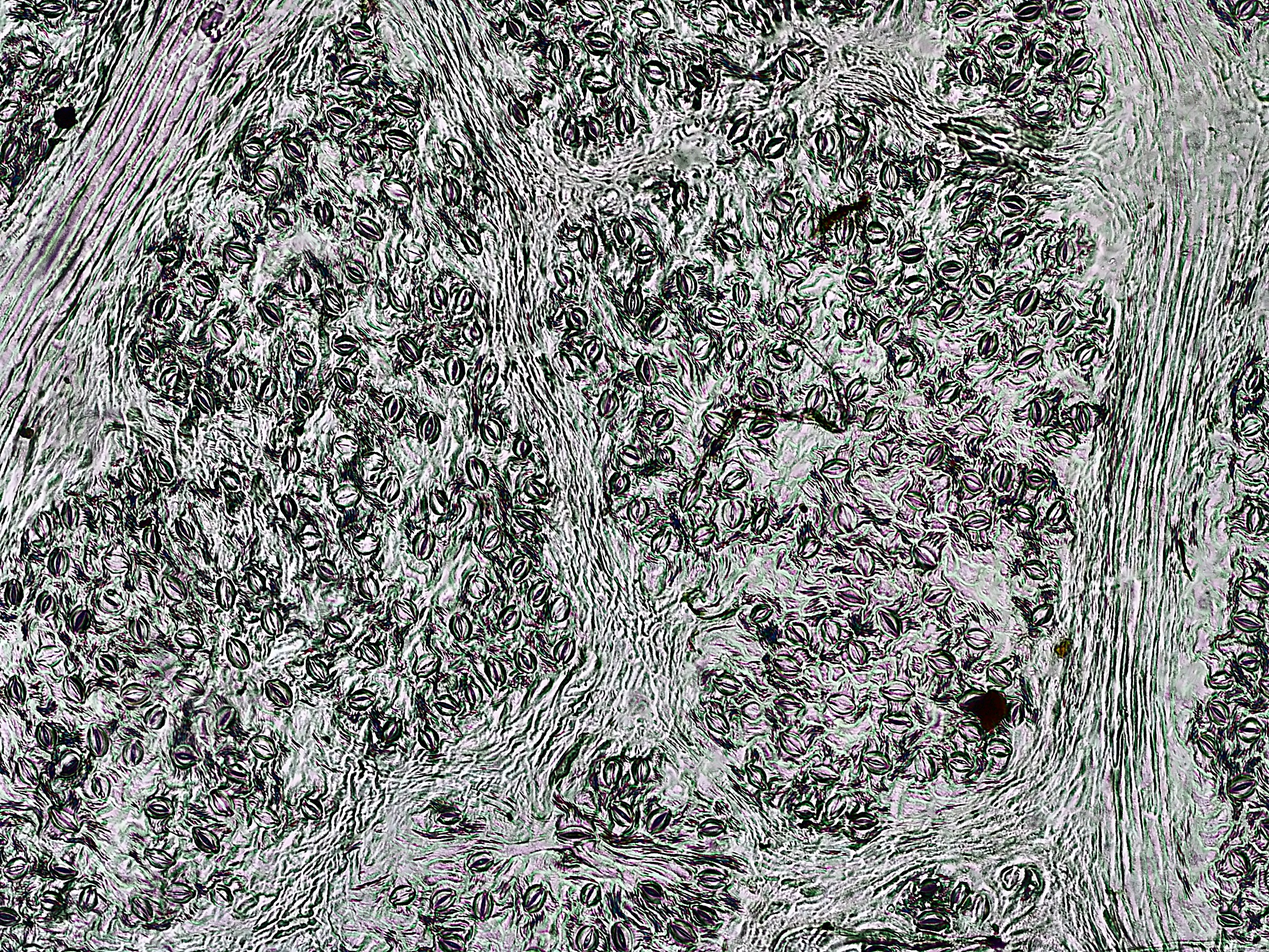stomata: (694, 408, 742, 446), (215, 629, 253, 668), (715, 109, 751, 147), (732, 370, 773, 403), (829, 211, 859, 255), (552, 821, 598, 849), (680, 520, 727, 547), (440, 133, 474, 169), (1235, 501, 1269, 537), (948, 180, 981, 217), (457, 850, 503, 876), (434, 172, 467, 207), (778, 726, 813, 759), (264, 677, 299, 710), (252, 297, 288, 329), (779, 48, 811, 84), (860, 751, 904, 777), (775, 252, 814, 281), (583, 24, 617, 57), (464, 457, 497, 491), (326, 56, 366, 84), (1069, 399, 1101, 434), (383, 124, 420, 154), (984, 454, 1014, 491), (629, 5, 668, 33), (1232, 408, 1266, 440), (545, 37, 576, 72), (226, 239, 266, 266), (432, 928, 477, 952), (997, 66, 1034, 94), (521, 477, 559, 504), (324, 100, 356, 132), (280, 133, 313, 164), (841, 635, 872, 668), (394, 328, 424, 362), (841, 106, 871, 140), (606, 798, 635, 833), (951, 56, 983, 87), (744, 761, 776, 792), (976, 327, 1005, 361), (686, 331, 715, 365), (750, 504, 779, 538), (415, 407, 443, 442), (770, 648, 805, 676), (943, 3, 980, 29), (47, 854, 84, 880), (345, 14, 376, 45), (577, 222, 601, 262), (676, 476, 708, 506), (816, 615, 846, 647), (311, 551, 340, 584), (583, 114, 611, 148), (189, 830, 227, 855), (987, 31, 1023, 57), (388, 89, 419, 119), (773, 303, 804, 333), (520, 882, 551, 912), (545, 633, 575, 664), (355, 213, 384, 245), (32, 889, 69, 914), (834, 163, 867, 191), (865, 432, 893, 465), (960, 415, 998, 439), (928, 378, 964, 403), (187, 270, 218, 299), (671, 262, 698, 295), (260, 602, 287, 635), (826, 686, 860, 712), (347, 686, 381, 712), (912, 908, 947, 933), (3, 850, 32, 880), (190, 385, 218, 416), (499, 12, 530, 40), (821, 448, 849, 479), (637, 875, 668, 903), (42, 545, 69, 577), (749, 416, 782, 442), (511, 506, 544, 532), (762, 346, 796, 371), (715, 497, 749, 522), (877, 607, 902, 641), (386, 174, 414, 204), (476, 355, 500, 390), (342, 260, 373, 287), (832, 587, 870, 609), (881, 680, 919, 702), (143, 241, 179, 264), (1229, 610, 1265, 633), (386, 275, 411, 308), (615, 105, 640, 138), (131, 844, 170, 865), (961, 625, 995, 649), (1224, 772, 1258, 796), (87, 765, 111, 799), (32, 0, 69, 22), (766, 132, 793, 162), (715, 672, 745, 699), (586, 68, 617, 94), (477, 413, 503, 444), (650, 305, 673, 340), (374, 716, 406, 741), (14, 756, 39, 788), (998, 228, 1031, 252), (613, 445, 649, 467), (688, 904, 721, 928), (643, 59, 671, 87), (255, 162, 282, 191), (318, 285, 345, 314), (1068, 48, 1097, 75), (505, 556, 532, 585), (379, 392, 405, 422), (1234, 0, 1264, 26), (638, 353, 663, 384), (1229, 842, 1251, 877), (937, 257, 969, 281), (610, 918, 634, 950), (4, 573, 24, 611), (722, 220, 745, 253), (803, 381, 826, 414), (289, 392, 316, 420), (694, 820, 730, 841), (130, 896, 158, 923), (288, 269, 314, 298), (757, 213, 783, 242), (1014, 286, 1040, 315), (1026, 397, 1052, 426), (783, 617, 812, 643), (928, 650, 957, 676), (1237, 716, 1266, 742), (53, 805, 79, 834), (329, 331, 359, 356), (1071, 77, 1101, 102), (353, 526, 378, 556), (1206, 700, 1231, 730), (1028, 101, 1062, 123), (99, 553, 133, 575), (1216, 907, 1247, 931), (923, 584, 955, 607), (523, 577, 550, 604), (689, 61, 715, 89), (378, 474, 404, 502), (427, 488, 453, 516), (32, 646, 65, 668), (144, 795, 177, 817), (941, 298, 970, 323), (97, 500, 126, 525), (703, 865, 732, 890), (212, 786, 237, 815), (551, 261, 575, 291), (387, 882, 417, 906), (330, 486, 364, 507), (1052, 305, 1075, 336), (563, 306, 594, 329), (175, 514, 198, 545), (174, 672, 205, 695), (1014, 0, 1046, 22), (1076, 338, 1102, 365), (1015, 341, 1042, 367), (721, 332, 747, 359), (841, 371, 867, 398), (579, 879, 605, 906), (749, 6, 774, 34), (413, 528, 438, 556), (250, 731, 278, 756), (435, 884, 459, 913), (465, 572, 489, 601), (460, 681, 489, 705), (1057, 238, 1080, 268), (702, 304, 732, 327), (950, 715, 980, 738), (813, 124, 835, 155), (216, 472, 247, 494), (327, 612, 352, 639), (878, 160, 899, 192), (623, 498, 651, 522), (914, 747, 935, 779), (1241, 574, 1269, 598), (363, 641, 387, 669), (414, 652, 442, 676), (849, 264, 872, 293), (673, 174, 692, 209), (896, 238, 926, 260), (720, 467, 750, 489), (879, 707, 909, 729), (146, 699, 168, 729), (154, 290, 175, 321), (1050, 501, 1071, 532), (1001, 191, 1027, 216), (648, 526, 674, 551), (706, 709, 731, 735), (355, 571, 381, 596), (301, 796, 326, 822), (554, 121, 578, 148), (68, 607, 95, 631), (1198, 727, 1222, 754), (703, 1, 726, 29), (396, 596, 419, 624), (776, 191, 808, 211), (20, 41, 49, 63), (456, 283, 478, 312), (364, 448, 393, 470), (999, 857, 1021, 886), (824, 790, 846, 819), (954, 223, 984, 244), (945, 755, 980, 773), (780, 694, 810, 715), (2, 129, 21, 162), (429, 282, 448, 315), (292, 340, 316, 366), (1024, 556, 1050, 580), (254, 806, 280, 830), (459, 230, 482, 257), (252, 378, 275, 405), (799, 534, 822, 561), (672, 920, 699, 943), (508, 96, 528, 127), (899, 275, 927, 297), (855, 549, 877, 577), (131, 618, 153, 646), (477, 891, 499, 919), (440, 688, 462, 716), (307, 653, 329, 681), (849, 810, 883, 828), (315, 198, 336, 227), (907, 487, 928, 516), (908, 546, 940, 565), (838, 500, 857, 532), (439, 351, 459, 381), (1090, 296, 1115, 320), (615, 215, 635, 245), (956, 470, 981, 494), (1032, 602, 1057, 626), (1008, 695, 1028, 725), (574, 923, 599, 947), (515, 647, 539, 672), (916, 157, 939, 183), (124, 467, 147, 493), (810, 761, 836, 784), (789, 797, 815, 820), (355, 133, 373, 166), (297, 529, 324, 551), (735, 701, 762, 723), (449, 613, 471, 640), (7, 672, 25, 705), (172, 745, 199, 767), (0, 92, 21, 120), (438, 808, 466, 829), (126, 737, 146, 766), (86, 724, 106, 753), (602, 384, 620, 416), (1064, 0, 1090, 22), (35, 592, 57, 618), (863, 215, 884, 242), (989, 664, 1016, 685), (1026, 470, 1054, 490), (576, 0, 613, 15), (137, 341, 161, 364), (164, 577, 187, 601), (750, 596, 773, 620), (56, 749, 79, 773), (520, 0, 549, 19), (966, 513, 995, 532), (1216, 670, 1241, 692), (647, 807, 668, 833), (101, 651, 122, 677), (661, 444, 681, 471), (281, 449, 301, 476), (337, 368, 356, 396), (166, 883, 194, 902), (283, 487, 300, 518), (629, 239, 654, 260), (155, 458, 176, 483), (180, 633, 205, 654), (76, 885, 97, 910), (158, 368, 178, 394), (605, 471, 631, 491), (404, 242, 426, 265), (894, 353, 917, 375), (653, 408, 675, 431), (923, 443, 945, 466), (271, 206, 292, 230), (1036, 45, 1060, 66), (875, 398, 889, 434), (1057, 425, 1081, 446), (483, 655, 504, 679), (221, 761, 249, 779), (486, 526, 506, 551), (915, 875, 940, 895), (36, 722, 56, 747), (627, 283, 643, 314), (123, 688, 154, 704), (63, 673, 81, 700), (240, 136, 264, 156), (225, 365, 245, 389), (728, 273, 743, 305), (878, 314, 898, 338), (78, 0, 112, 14), (249, 567, 267, 593), (147, 523, 162, 554), (606, 754, 621, 785), (949, 879, 965, 908), (44, 67, 65, 89), (214, 320, 236, 341), (209, 887, 232, 907), (62, 499, 79, 526), (337, 430, 356, 454), (633, 757, 652, 781), (32, 515, 50, 540), (979, 273, 996, 299), (498, 608, 519, 629), (553, 593, 568, 622), (984, 741, 1015, 755), (974, 894, 990, 921), (585, 339, 602, 364), (1243, 454, 1268, 471), (466, 317, 481, 345), (104, 593, 125, 613), (1240, 652, 1263, 670), (223, 581, 236, 612), (513, 434, 531, 456), (421, 727, 438, 750), (1255, 821, 1268, 851), (1, 904, 19, 925), (845, 306, 860, 331), (218, 703, 232, 729), (1014, 498, 1030, 518), (1251, 367, 1264, 389), (1254, 678, 1269, 697)
